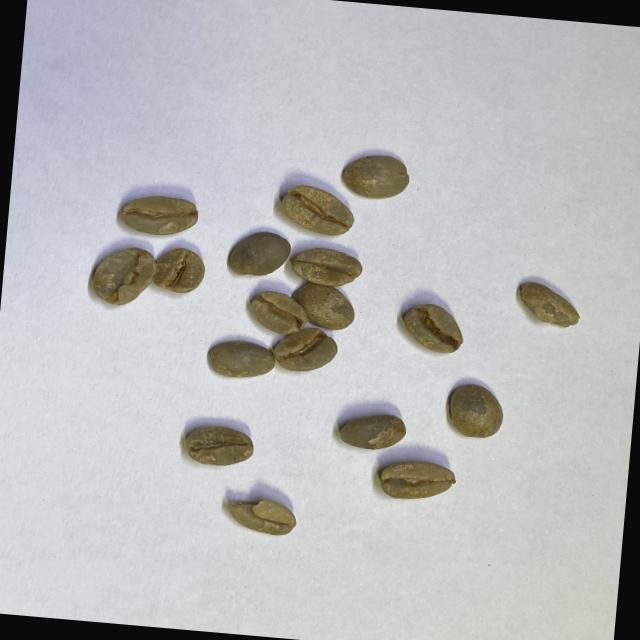bad: (90, 244, 158, 308), (400, 302, 466, 356), (515, 281, 583, 329), (183, 423, 254, 468), (224, 494, 298, 537), (246, 288, 308, 336)
good: (280, 184, 356, 238), (337, 150, 411, 202), (378, 456, 458, 504), (117, 192, 199, 238), (272, 324, 340, 375), (226, 228, 292, 280), (446, 382, 504, 440), (288, 245, 364, 289), (205, 336, 276, 382), (290, 282, 356, 331), (337, 410, 407, 452), (151, 245, 206, 295)
